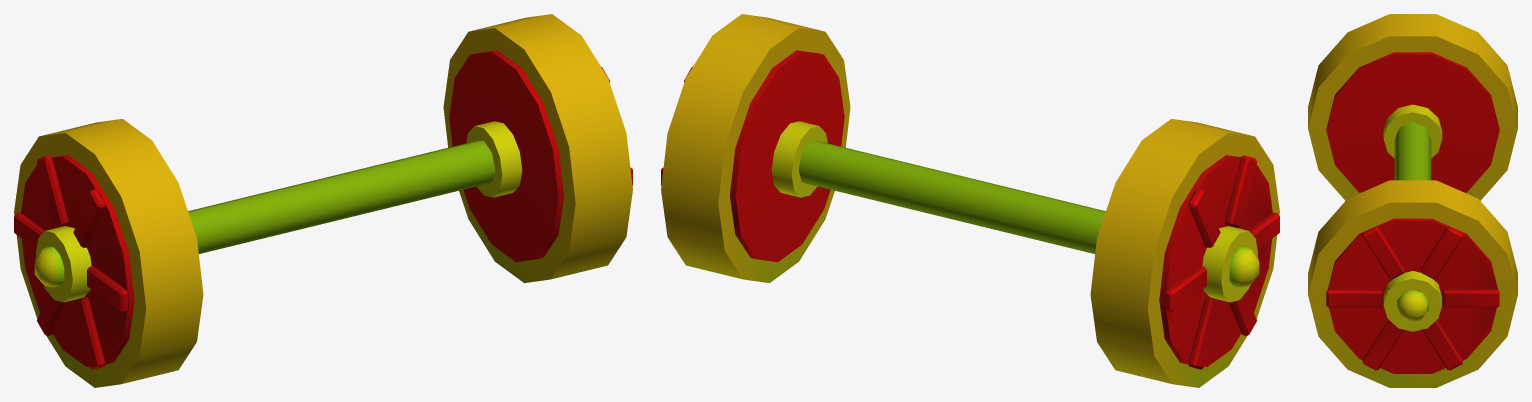
File: Ballista_wheel0.glb
3 renders of one model, left to right at view 1: azimuth 30°, elevation 25°; view 2: azimuth 150°, elevation 25°; view 3: azimuth 270°, elevation 25°, orthographic. The views are drawn at different scales.
Parts seen in each view (by area): view 1: Ballista_wheel0; view 2: Ballista_wheel0; view 3: Ballista_wheel0.
Boxes of the visible parts, x1,y1,x2,y2 form: Ballista_wheel0: [14, 14, 632, 387]; Ballista_wheel0: [661, 14, 1279, 387]; Ballista_wheel0: [1308, 14, 1517, 387].
Size of the model in its own units: 2.3 by 0.8969 by 0.92.
